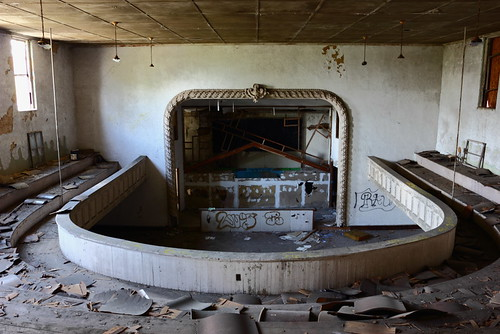building: (1, 1, 500, 334)
graffiti: (351, 177, 398, 217), (206, 210, 260, 233), (259, 204, 287, 230)
